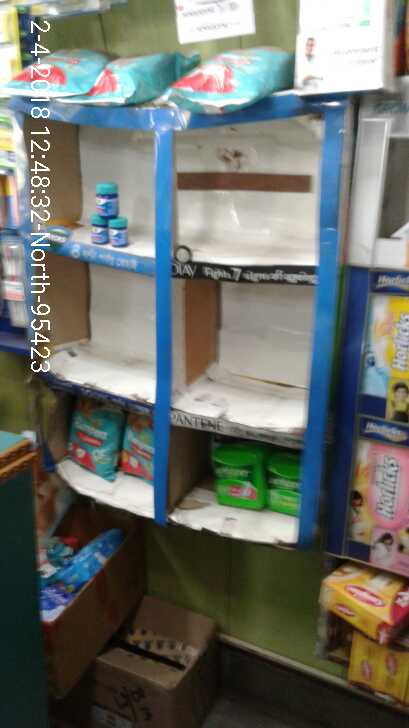vicks: (84, 177, 131, 251)
